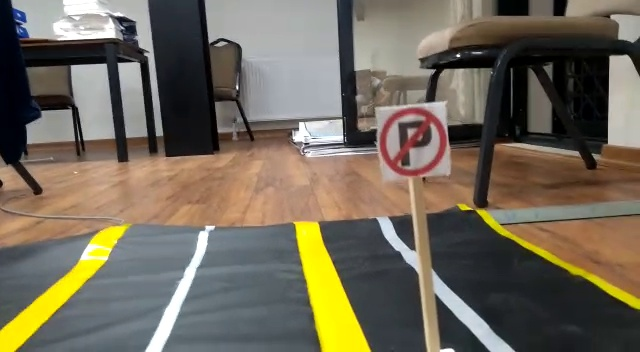park_yapilmaz: (374, 105, 452, 179)
